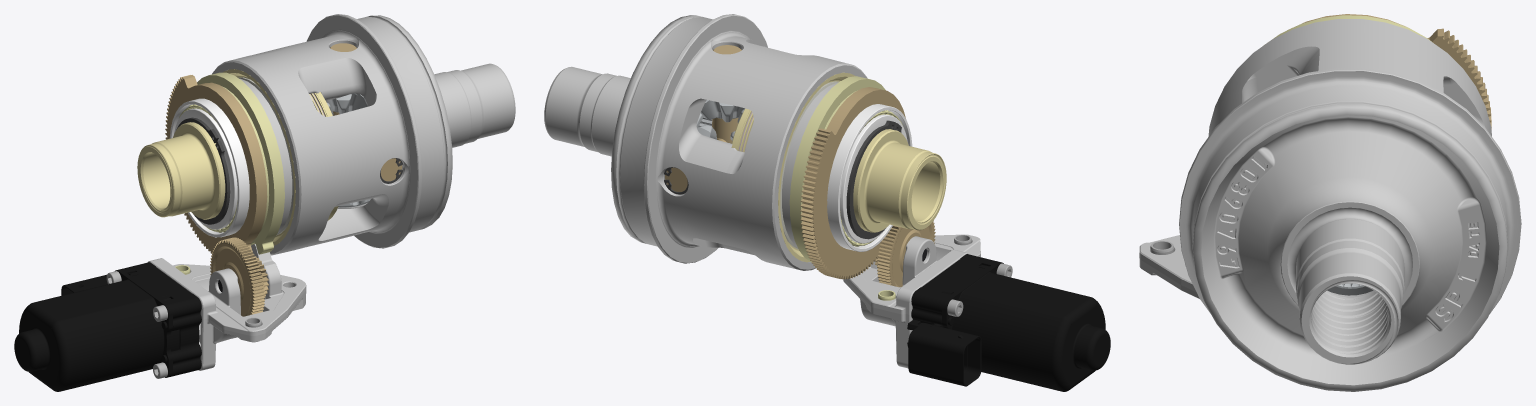
File: TaycanGearRotation6.glb
3 renders of one model, left to right at view 1: azimuth 30°, elevation 25°; view 2: azimuth 150°, elevation 25°; view 3: azimuth 270°, elevation 25°, orthographic. The views are drawn at different scales.
Parts seen in each view (by area): view 1: EmptyZupcanici, 1600064752, 1600034146_PRT__G_2, Mesh_136, 1600032356_PRT__G_2, DIN628_SNR_65X92X10_5IR_PRT__A, 1600032111_PRT__D_2, Mesh_138, 1600030653_PRT__E_2, DIN471-A65-2_3_PRT__F_1, 1600032191_PRT__C_3.001; view 2: EmptyZupcanici, 1600064752, 1600034146_PRT__G_2, 1600032356_PRT__G_2, Mesh_136, DIN628_SNR_65X92X10_5IR_PRT__A, 1600032111_PRT__D_2, Mesh_138, 1600030653_PRT__E_2, DIN471-A65-2_3_PRT__F_1, 1905540008_PRT__F_10, 1600032191_PRT__C_3.001; view 3: EmptyZupcanici, Mesh_136, 1600032356_PRT__G_2, 1600032111_PRT__D_2, 1600032189_PRT__D_2.
Boxes of the visible parts, box(x1,y1,x2,y2) form: EmptyZupcanici: box(212, 14, 515, 255); 1600064752: box(14, 262, 201, 391); 1600034146_PRT__G_2: box(137, 69, 295, 245); Mesh_136: box(147, 244, 306, 370); 1600032356_PRT__G_2: box(165, 75, 267, 253); DIN628_SNR_65X92X10_5IR_PRT__A: box(169, 98, 249, 237); 1600032111_PRT__D_2: box(197, 72, 284, 254); Mesh_138: box(210, 237, 268, 316); 1600030653_PRT__E_2: box(238, 77, 293, 235); DIN471-A65-2_3_PRT__F_1: box(176, 117, 230, 224); 1600032191_PRT__C_3.001: box(326, 93, 368, 114); EmptyZupcanici: box(544, 14, 867, 270); 1600064752: box(907, 254, 1110, 391); 1600034146_PRT__G_2: box(778, 72, 946, 262); 1600032356_PRT__G_2: box(800, 87, 905, 279); Mesh_136: box(843, 234, 980, 368); DIN628_SNR_65X92X10_5IR_PRT__A: box(827, 104, 912, 251); 1600032111_PRT__D_2: box(789, 76, 885, 262); Mesh_138: box(875, 220, 935, 287); 1600030653_PRT__E_2: box(780, 81, 838, 249); DIN471-A65-2_3_PRT__F_1: box(846, 120, 901, 239); 1905540008_PRT__F_10: box(712, 45, 741, 143); 1600032191_PRT__C_3.001: box(701, 100, 744, 122); EmptyZupcanici: box(1179, 19, 1521, 391); Mesh_136: box(1139, 235, 1199, 298); 1600032356_PRT__G_2: box(1288, 14, 1491, 129); 1600032111_PRT__D_2: box(1265, 15, 1431, 44); 1600032189_PRT__D_2: box(1327, 283, 1373, 295).
Bounding box in the file's own units: 0.3733 × 0.1959 × 0.1757.
